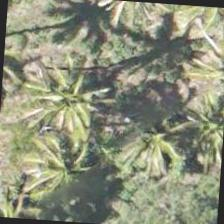Kelapa_Sawit: (106, 108, 202, 204), (17, 121, 113, 217), (22, 52, 118, 148), (165, 89, 223, 184)
